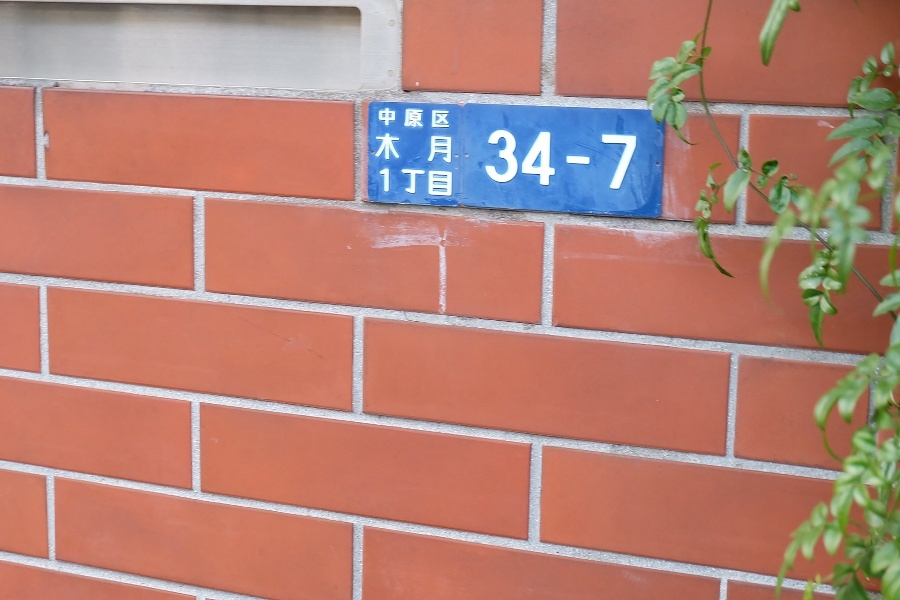text: (625, 127, 641, 192), (497, 127, 512, 192), (513, 127, 528, 192), (529, 127, 544, 192), (545, 127, 560, 192), (561, 127, 576, 192), (577, 127, 592, 192), (593, 127, 608, 192), (609, 127, 624, 192), (385, 133, 400, 164), (401, 133, 416, 164), (417, 133, 432, 164), (433, 133, 448, 164), (489, 127, 496, 192), (385, 168, 400, 197), (401, 168, 416, 197), (417, 168, 432, 197), (433, 168, 448, 197), (385, 108, 400, 129), (401, 108, 416, 129), (417, 108, 432, 129), (433, 108, 448, 129), (376, 133, 384, 164), (380, 168, 384, 197), (449, 168, 453, 197), (449, 133, 452, 164), (380, 108, 384, 129), (449, 108, 450, 129)
